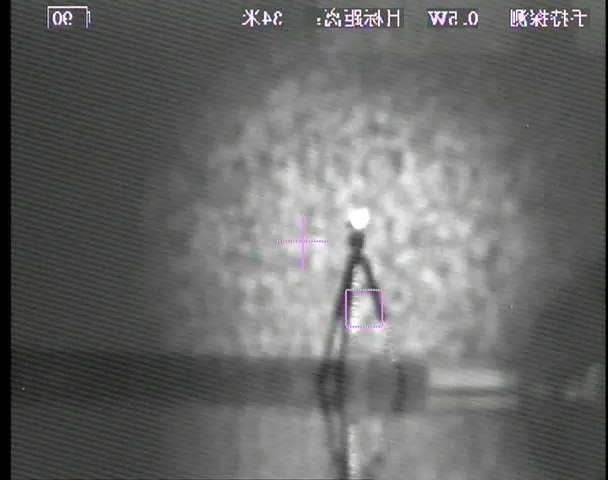my: (348, 207, 372, 231)
